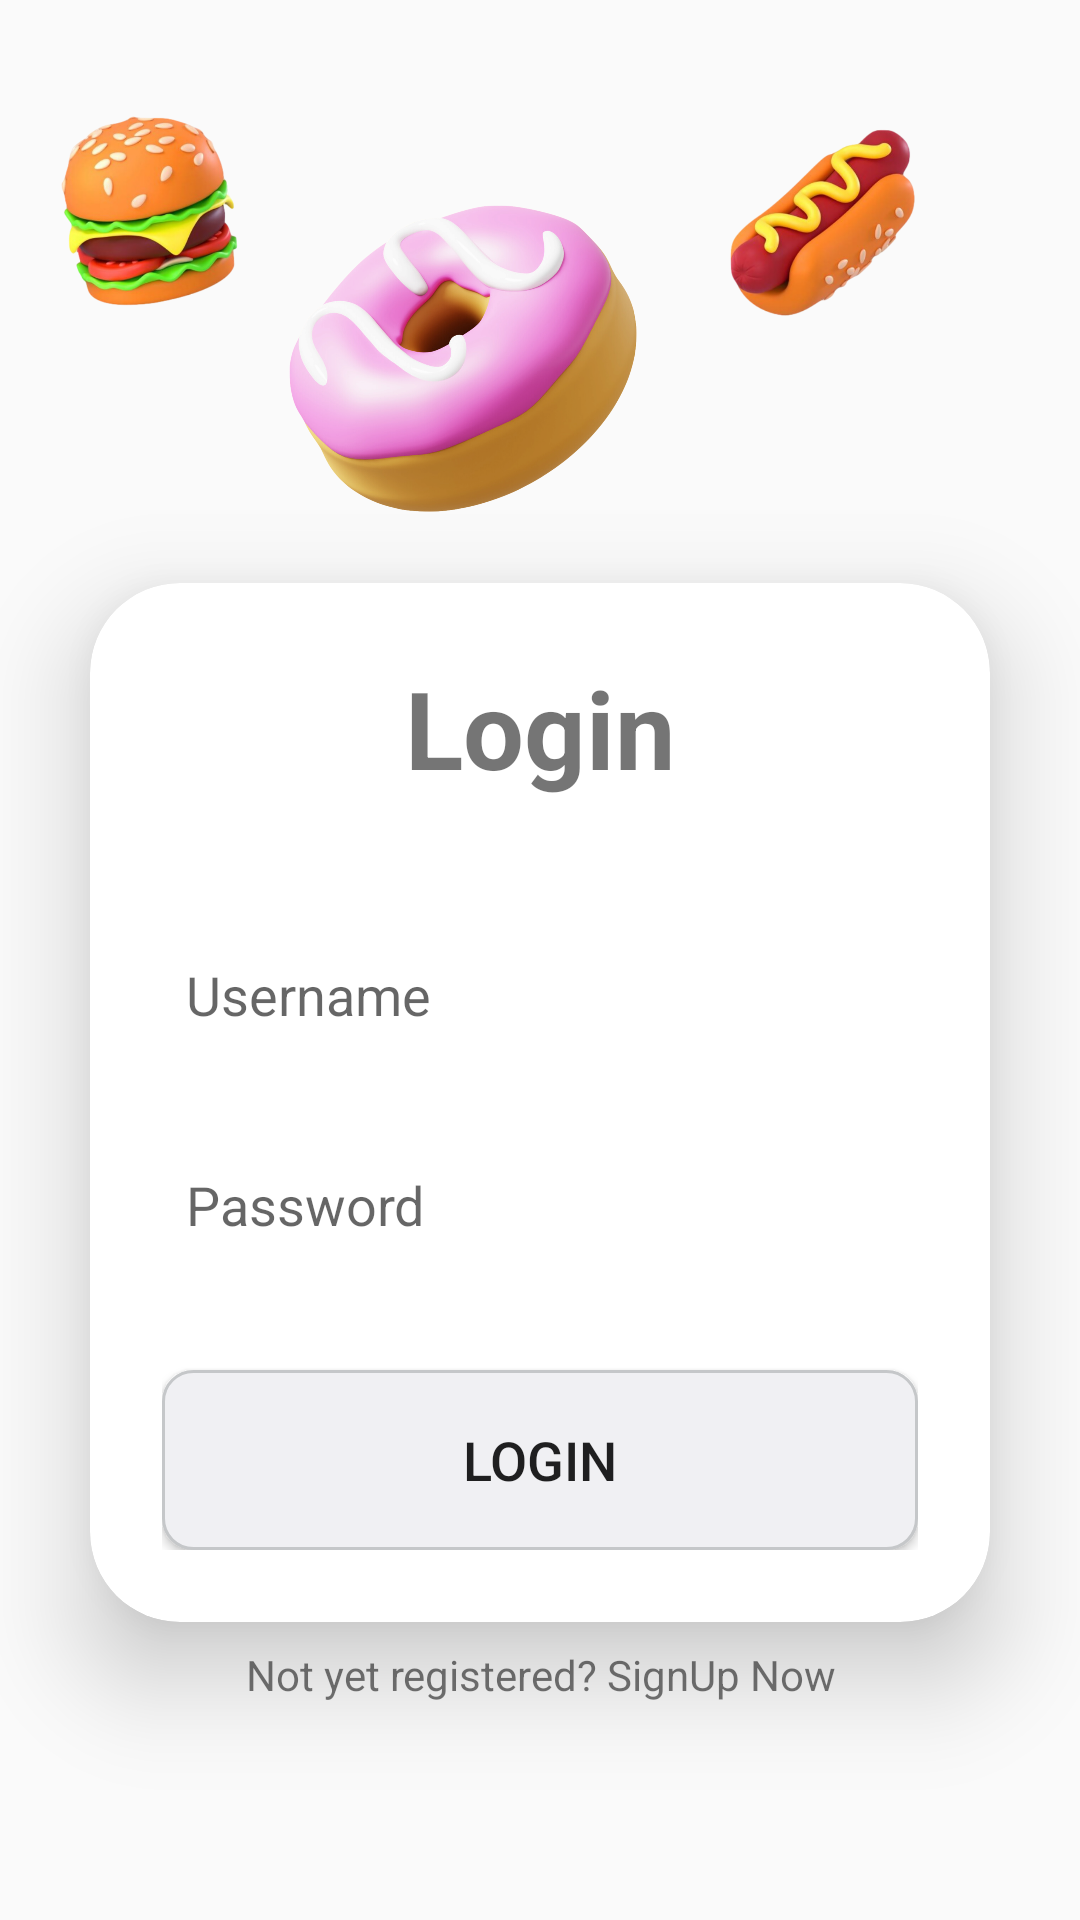

Point at icon controls on the screen. Image size 1080 x 1920, points as point (x, y).
burger: point (149, 211)
